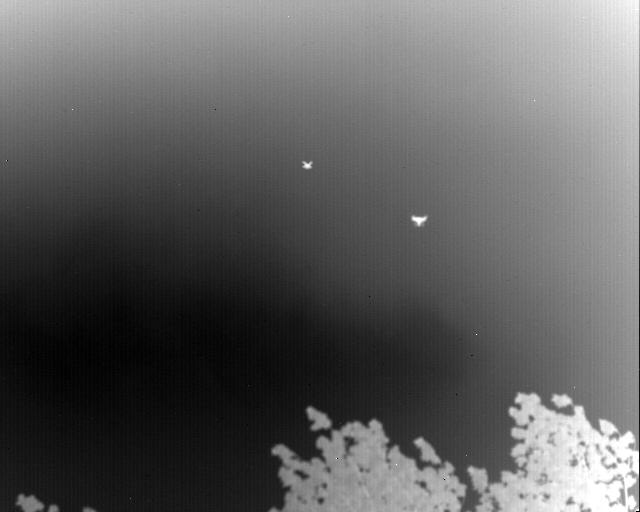plane: (411, 215, 428, 227), (301, 160, 313, 170)
